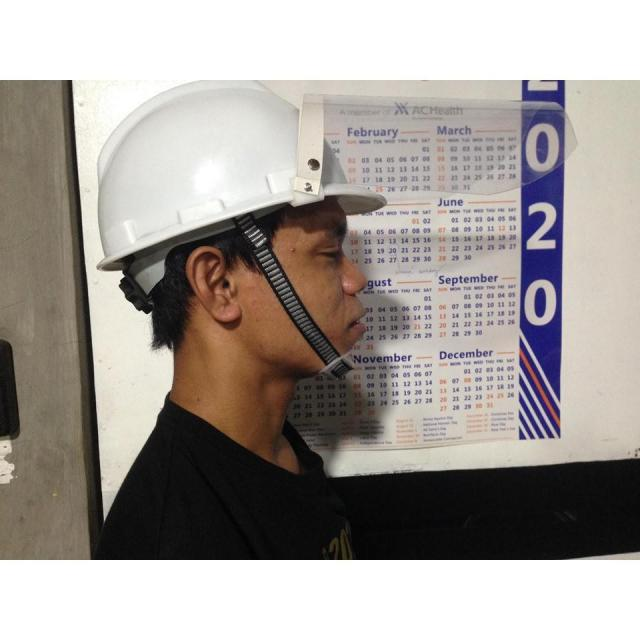hat: (96, 79, 386, 280)
